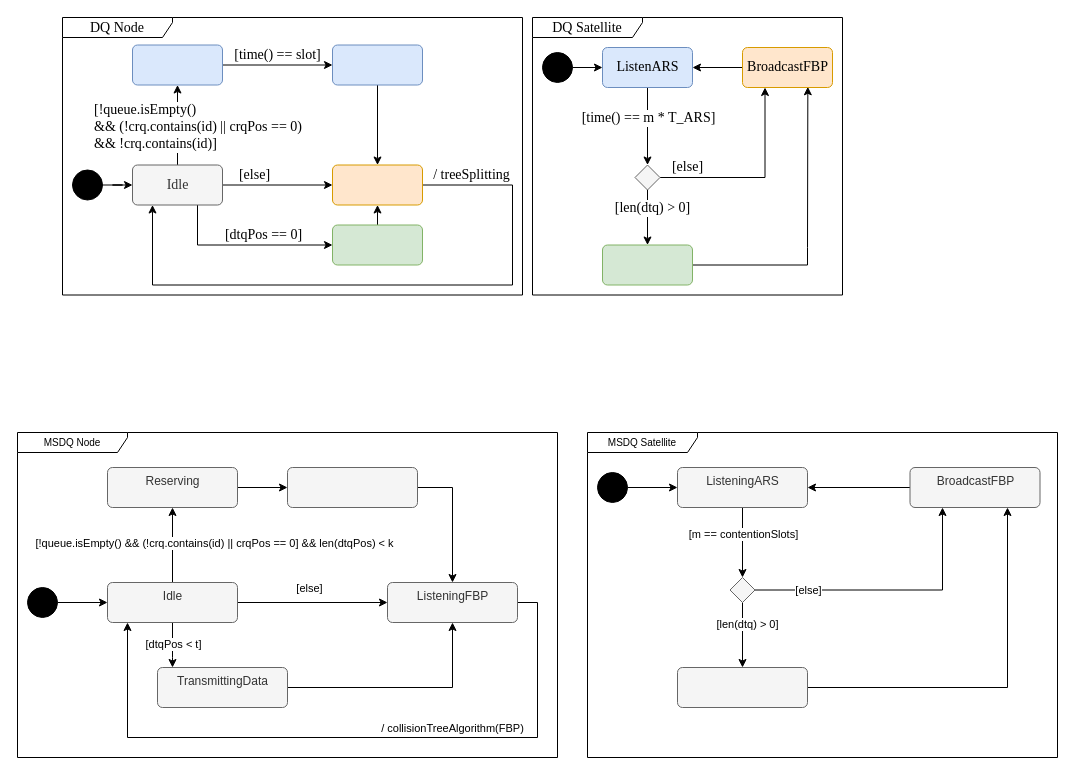
The diagram is 1075 pixels wide and 775 high, and some of its shapes have lost their labels. The centre of each missing label's shape, as x and y in pixels:
ListenData: [647,264]
ListenFBP: [377,184]
ListeningData: [742,687]
Reserve: [177,64]
TransmitARS: [377,64]
TransmitData: [377,244]
TransmittingARS: [352,487]
